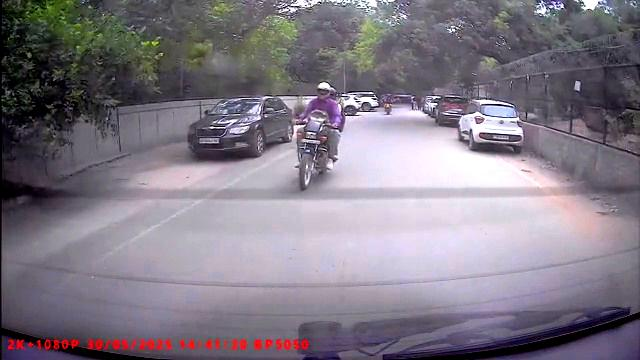motorcycle_with_helmet: (295, 78, 340, 188)
